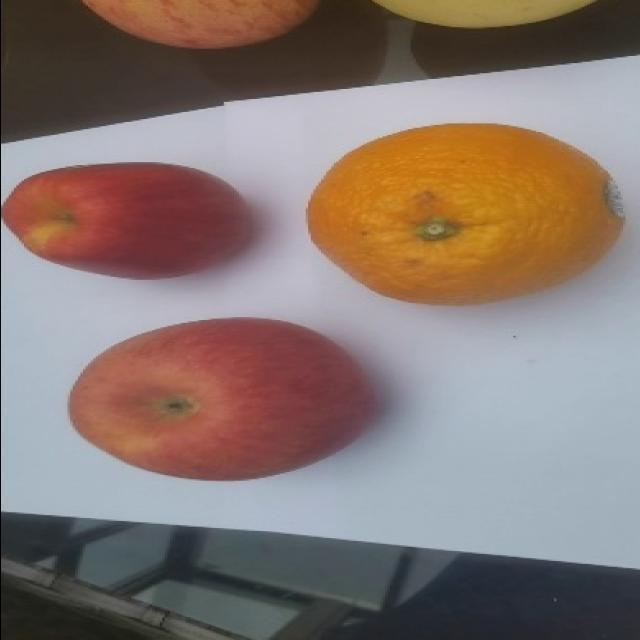Apple: (67, 315, 378, 481), (1, 160, 254, 280), (80, 0, 320, 50)
Orange: (305, 121, 625, 305)
